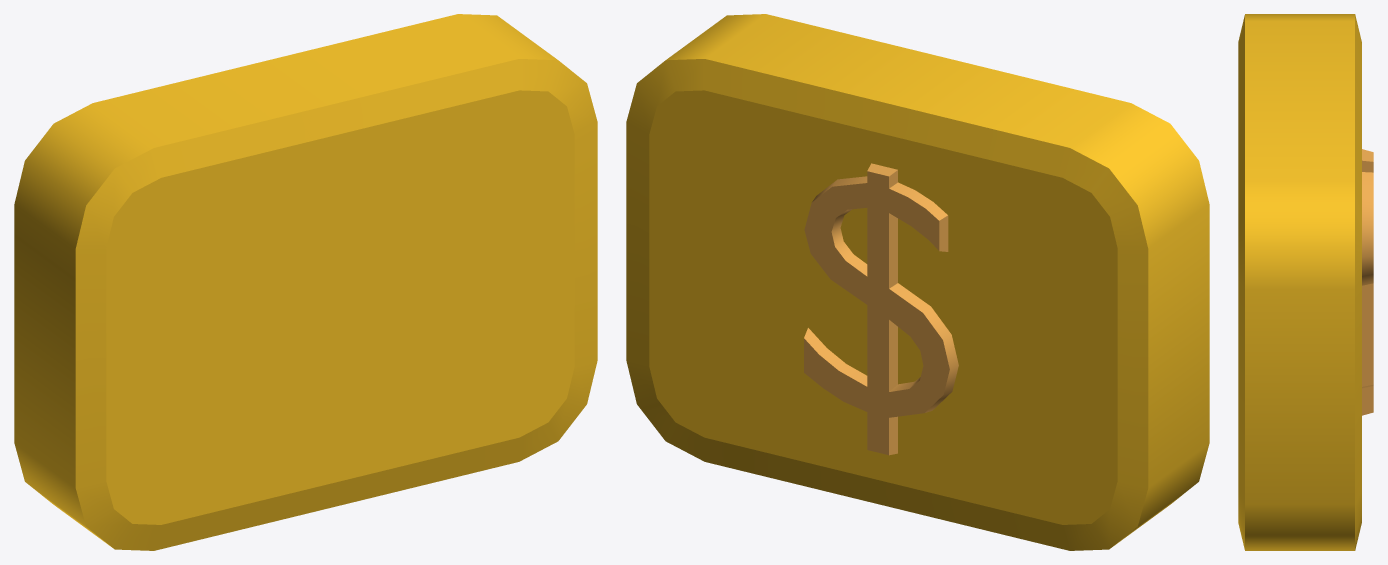
The model's file is Currency Medium.fbx.
The picture shows the model from 3 angles, left to right: view 1: azimuth 30°, elevation 25°; view 2: azimuth 150°, elevation 25°; view 3: azimuth 270°, elevation 25°; orthographic projection. The views are drawn at different scales.
Parts seen in each view (by area): view 1: Currency Medium; view 2: Currency Medium; view 3: Currency Medium.
Part boxes in pixels (x1,y1,x2,y2): Currency Medium: (14,14,597,550); Currency Medium: (626,14,1209,550); Currency Medium: (1238,14,1373,550).
Size of the model in its own units: 0.6184 by 0.4564 by 0.1549.
